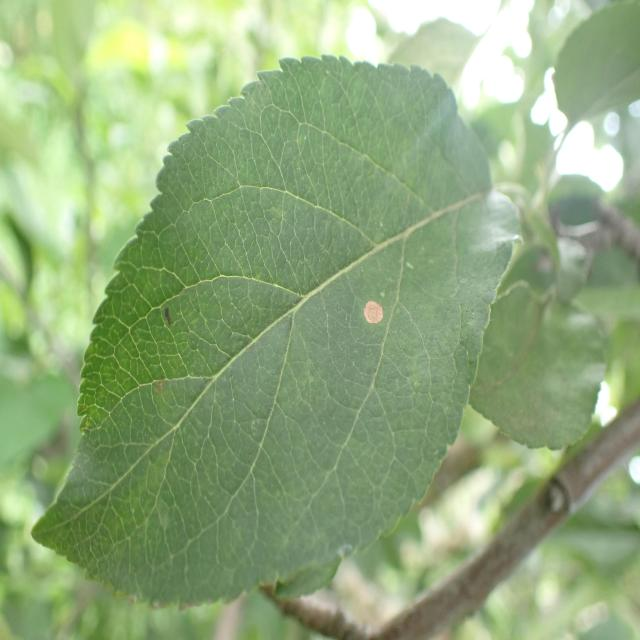Black Rot: (348, 280, 388, 344)
